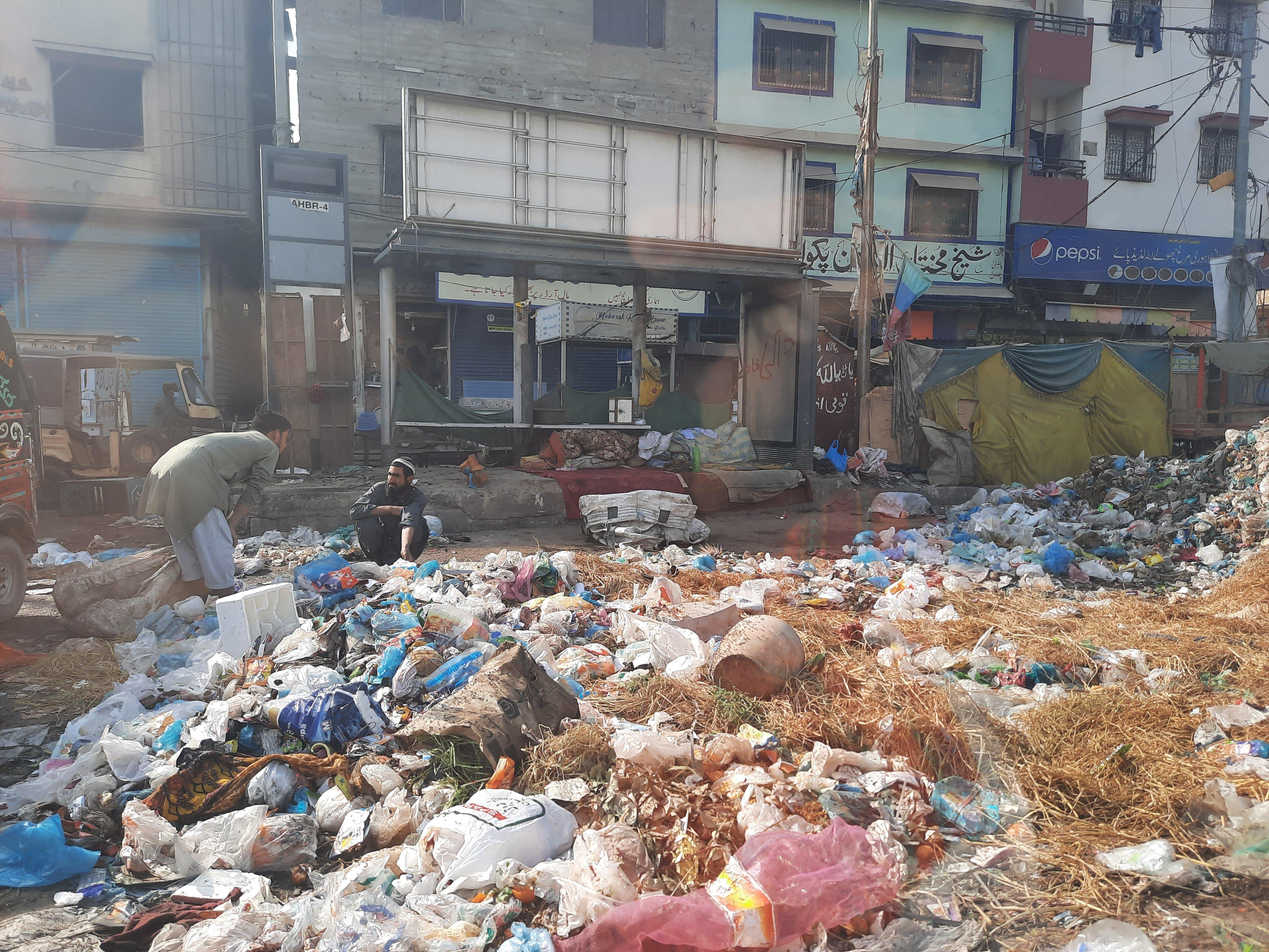garbage: (24, 576, 822, 952), (924, 419, 1269, 660)
